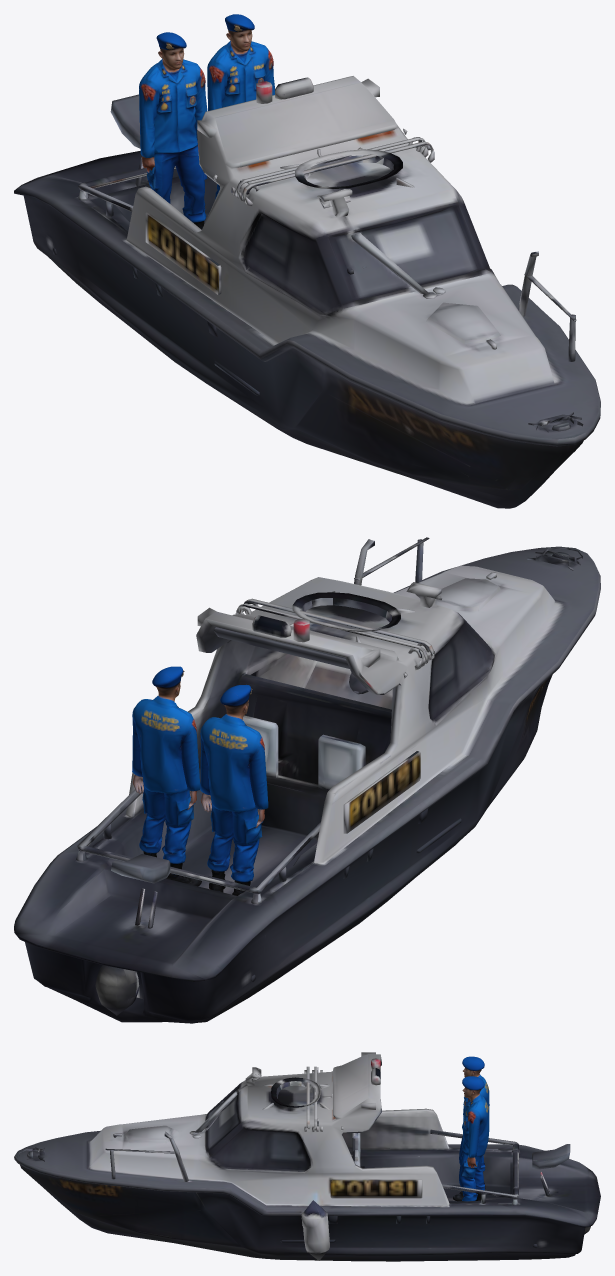
Rendered from kapal_patroli_airud.glb.
The picture shows the model from 3 angles, top to bottom: view 1: azimuth 30°, elevation 25°; view 2: azimuth 150°, elevation 25°; view 3: azimuth 270°, elevation 25°; orthographic projection. The views are drawn at different scales.
Parts seen in each view (by area): view 1: kapal, tripo_node_fcc572f9.001, tripo_node_fcc572f9; view 2: kapal, tripo_node_fcc572f9, tripo_node_fcc572f9.001; view 3: kapal, tripo_node_fcc572f9, tripo_node_fcc572f9.001.
Part boxes in pixels (x1,y1,x2,y2): kapal: (14,76,600,508); tripo_node_fcc572f9.001: (139,32,207,229); tripo_node_fcc572f9: (207,14,274,198); kapal: (14,537,600,1023); tripo_node_fcc572f9: (132,666,201,886); tripo_node_fcc572f9.001: (200,684,268,895); kapal: (14,1052,600,1261); tripo_node_fcc572f9: (459,1076,489,1201); tripo_node_fcc572f9.001: (453,1056,489,1201).
Bounding box in the file's own units: 30.42 × 33.91 × 100.
2 materials, 2 textured.
